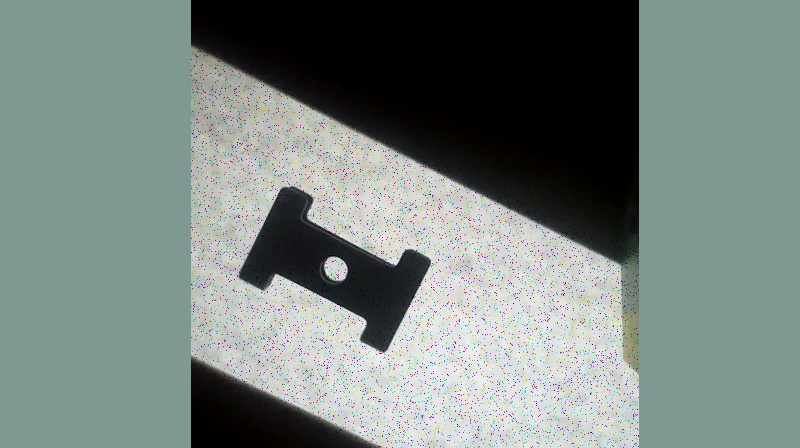O002: (237, 183, 433, 355)
